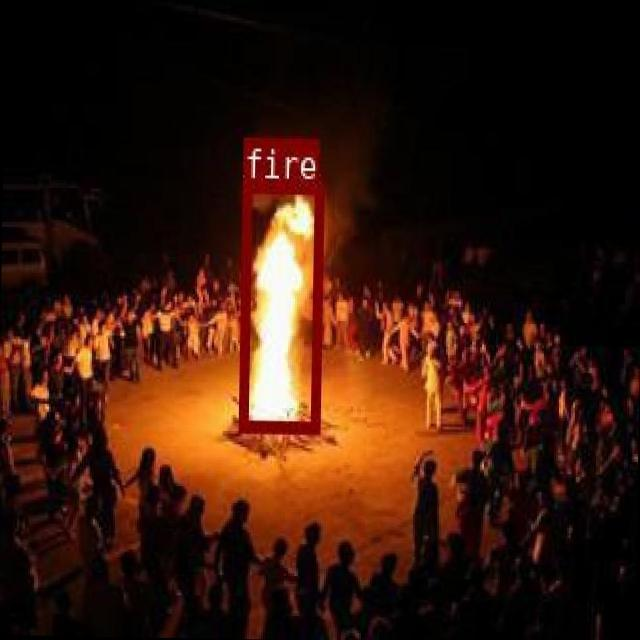fire: (238, 179, 322, 432)
